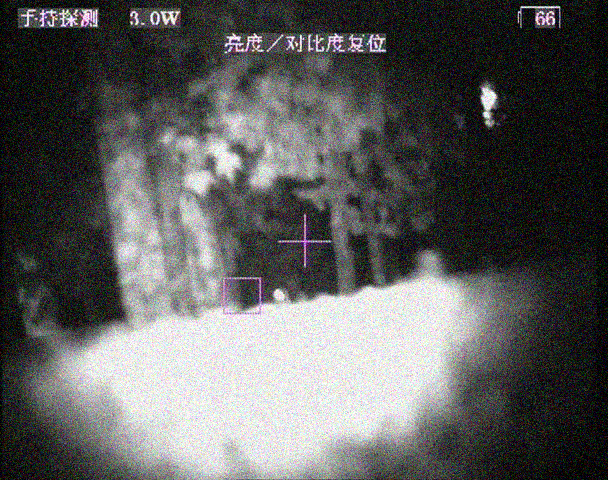my: (271, 286, 286, 302)
